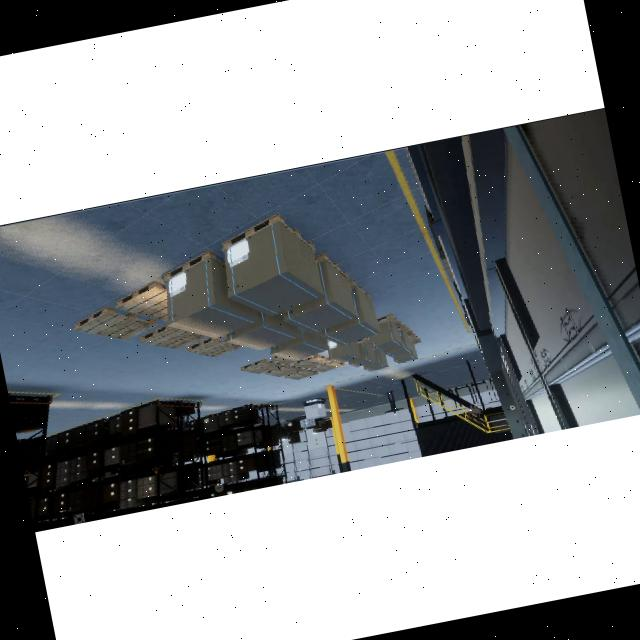wooden_pallet: (222, 213, 316, 253), (74, 305, 159, 341), (116, 280, 168, 321), (162, 249, 226, 282), (139, 324, 207, 350), (187, 336, 242, 358), (315, 252, 350, 281)
